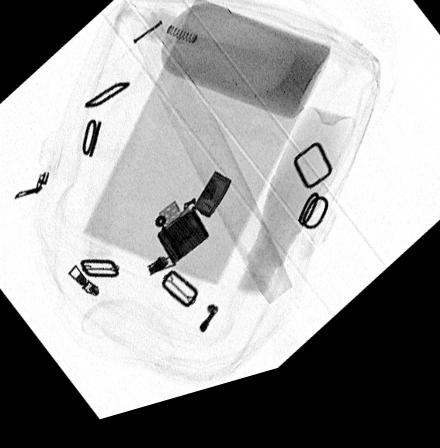Lighter: (153, 180, 233, 274)
